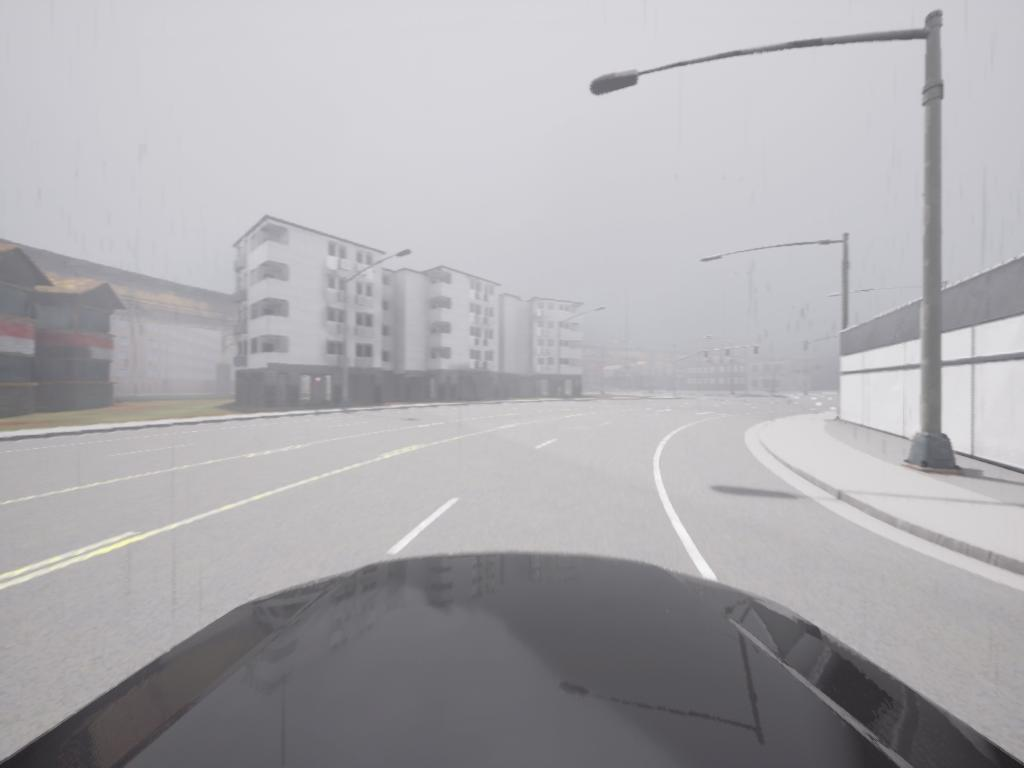traffic_light: (804, 341, 811, 354), (727, 349, 732, 360), (705, 351, 710, 362), (755, 347, 759, 356)
